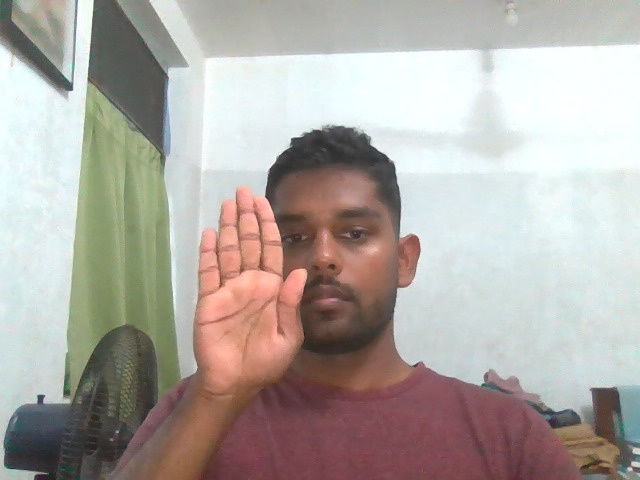bye: (185, 183, 316, 397)
